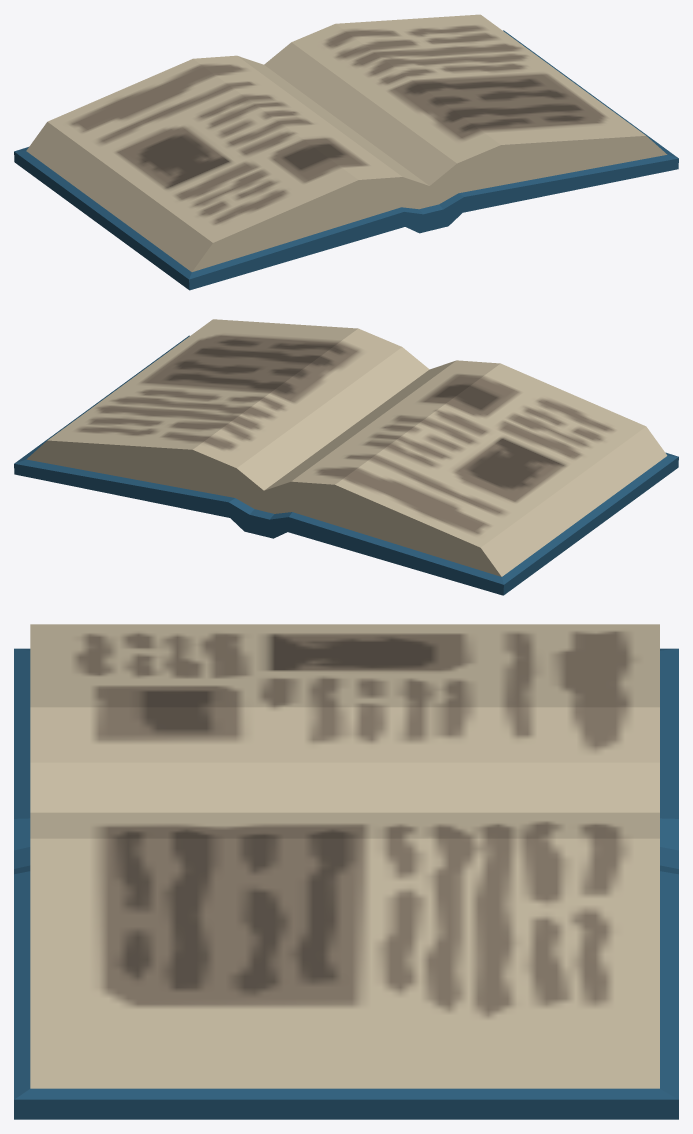
The model's file is SM_Prop_Book_Open_01.fbx.
3 views of the same model, one above another, from view 1: azimuth 30°, elevation 25°; view 2: azimuth 150°, elevation 25°; view 3: azimuth 270°, elevation 25° (orthographic). The views are drawn at different scales.
Visible parts, largest first — view 1: SM_Prop_Book_Open_01; view 2: SM_Prop_Book_Open_01; view 3: SM_Prop_Book_Open_01.
Part boxes in pixels (x1,y1,x2,y2): SM_Prop_Book_Open_01: [14, 14, 678, 290]; SM_Prop_Book_Open_01: [14, 319, 678, 595]; SM_Prop_Book_Open_01: [14, 624, 678, 1119].
Bounding box in the file's own units: 72.53 × 9.23 × 44.88.
